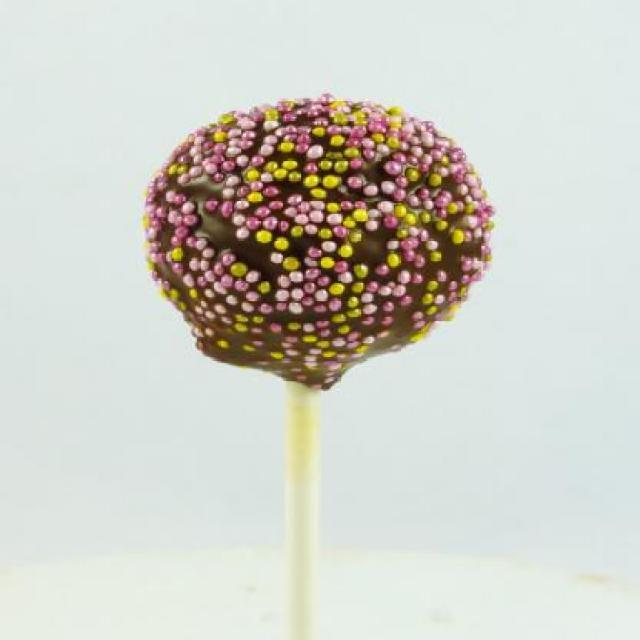Candy: (160, 92, 468, 362)
